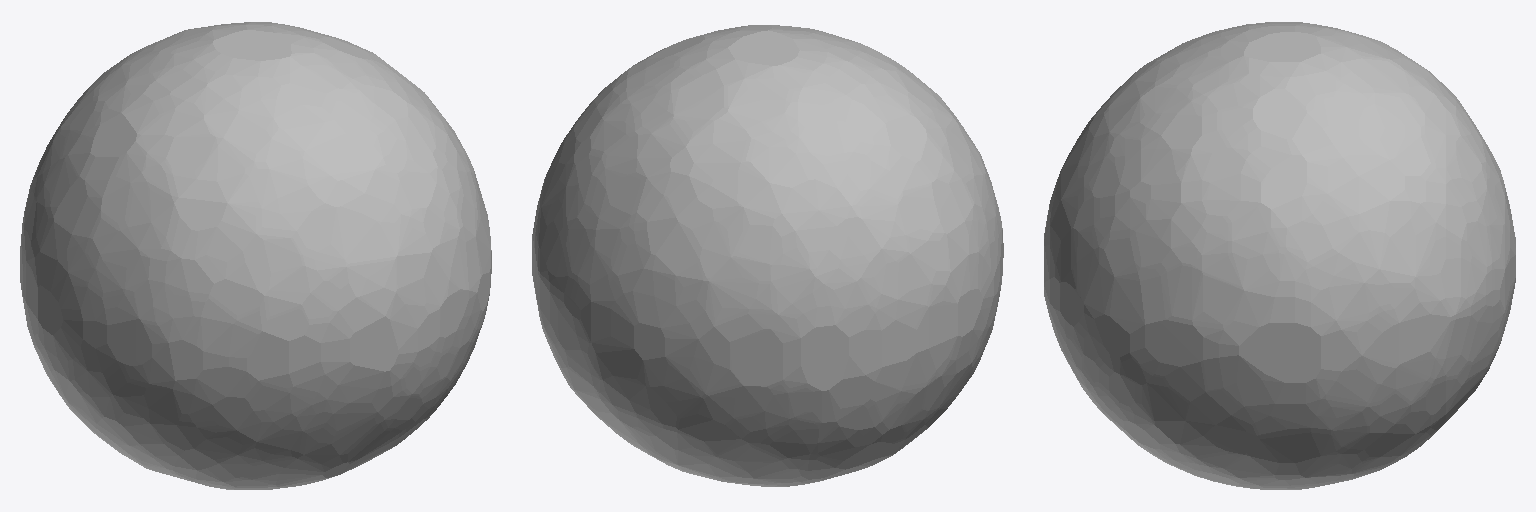
robot.urdf — root:
<robot name="root">
  <link name="link_coacd_convex_piece_0">
    <inertial>
      <origin xyz="0 0 0" rpy="0 0 0"/>
      <inertia ixx="1.33E+00" ixy="-4.06E-03" ixz="-2.08E-03" iyy="1.34E+00" iyz="-4.17E-03" izz="1.35E+00"/>
    </inertial>
    <visual>
      <origin xyz="0 0 0" rpy="0 0 0"/>
      <geometry>
        <mesh filename="coacd_convex_piece_0.obj" scale="1.0000E+00 1.0000E+00 1.0000E+00"/>
      </geometry>
      <material name="">
        <color rgba="7.50E-01 7.50E-01 7.50E-01 1"/>
      </material>
    </visual>
    <collision>
      <origin xyz="0 0 0" rpy="0 0 0"/>
      <geometry>
        <mesh filename="coacd_convex_piece_0.obj" scale="1.0000E+00 1.0000E+00 1.0000E+00"/>
      </geometry>
    </collision>
  </link>
</robot>

--- What the picture shows (computed from the rendered views, not written in the file) ---
Views: 3 orthographic renders of the robot side by side, from view 1: azimuth 30°, elevation 25°; view 2: azimuth 150°, elevation 25°; view 3: azimuth 270°, elevation 25°.
Robot: root — 1 links, 0 joints (none); root link link_coacd_convex_piece_0; default pose: every joint at zero.
Links seen in each view (by area): view 1: link_coacd_convex_piece_0; view 2: link_coacd_convex_piece_0; view 3: link_coacd_convex_piece_0.
Boxes of the visible links, <box> form: link_coacd_convex_piece_0: <box>20,22,491,489</box>; link_coacd_convex_piece_0: <box>532,25,1003,486</box>; link_coacd_convex_piece_0: <box>1044,22,1515,489</box>.
Size in the robot's own frame: 1.93 by 1.93 by 1.89 metres.
1 mesh visuals loaded from 1 distinct referenced files (1 OBJ).